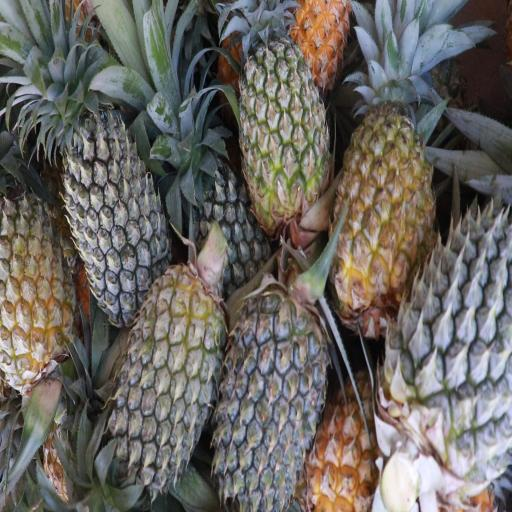------------------------------: (234, 32, 332, 220)
Pineapple - v8 v1: (324, 110, 437, 322), (0, 188, 77, 388)
